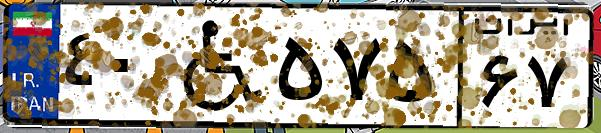0: (110, 28, 158, 98)
4: (57, 26, 110, 100)
5: (270, 28, 330, 110), (385, 28, 445, 110)
6: (475, 38, 525, 113)
7: (330, 28, 385, 110), (525, 38, 570, 115)
ژ (معلولین و جانبازان): (158, 12, 270, 120)
